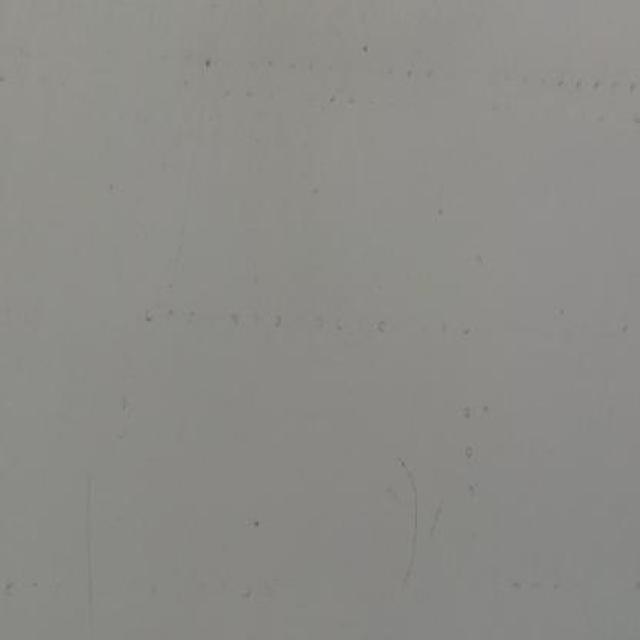Missing-Rivet: (508, 59, 638, 118)
